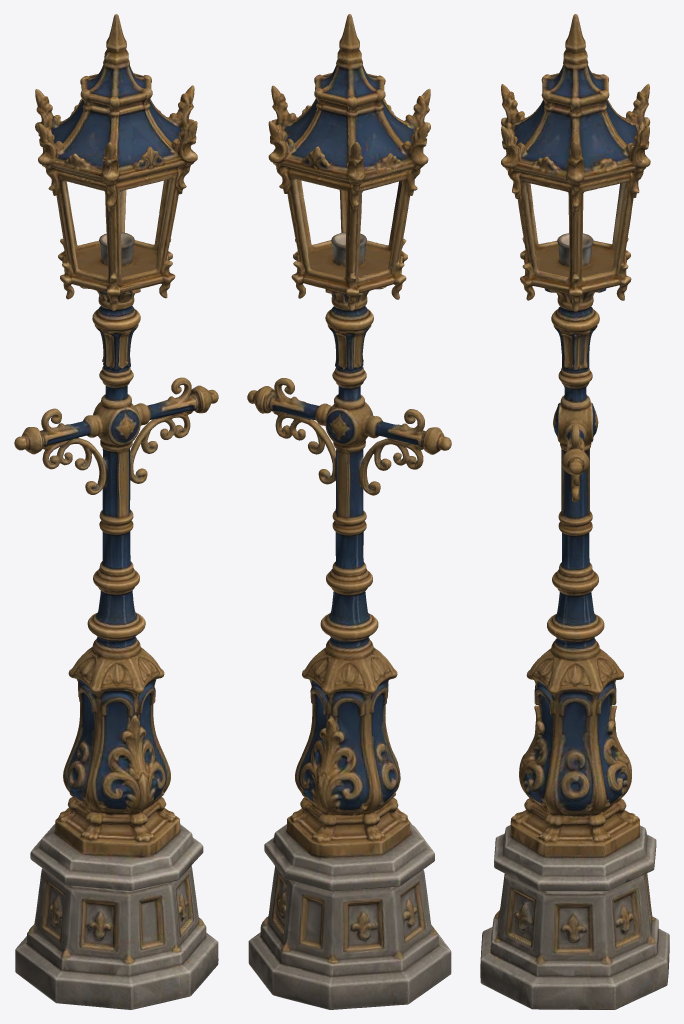
The model's file is royal-street-lantern-a.glb.
3 views of the same model, side by side, from view 1: azimuth 30°, elevation 25°; view 2: azimuth 150°, elevation 25°; view 3: azimuth 270°, elevation 25° (orthographic).
Parts seen in each view (by area): view 1: mesh_node; view 2: mesh_node; view 3: mesh_node.
Boxes of the visible parts, box(x1,y1,x2,y2) form: mesh_node: box(14, 14, 218, 1009); mesh_node: box(247, 14, 451, 1009); mesh_node: box(480, 14, 669, 1009).
Size of the model in its own units: 0.4221 by 1.9 by 0.3412.
1 material, 1 textured.
